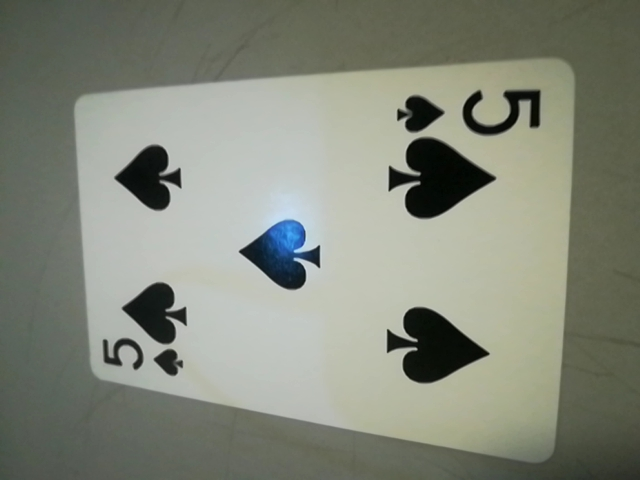ht 5: (389, 74, 555, 138)
